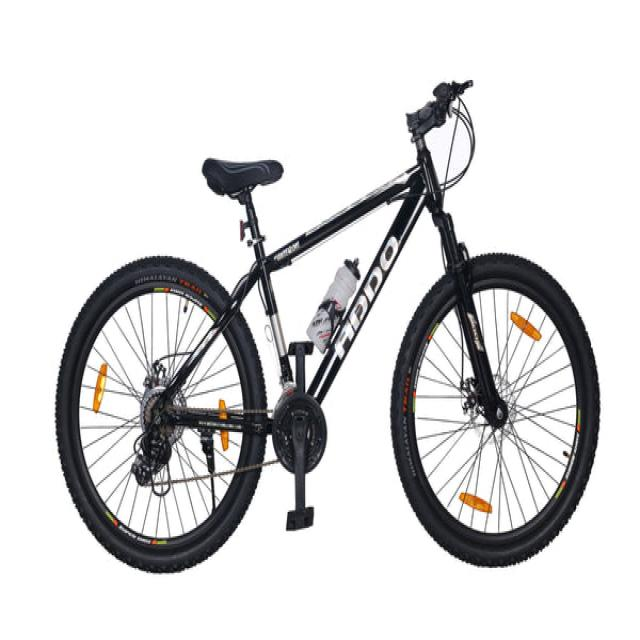bicycle: (56, 82, 599, 571)
